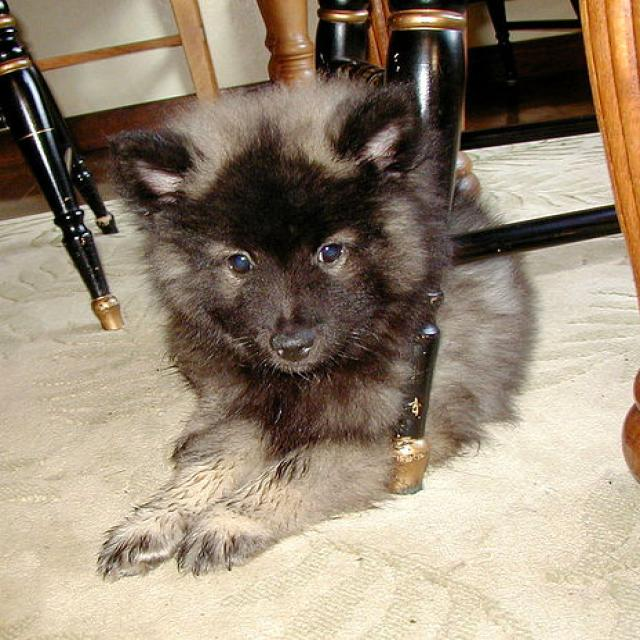dog-keeshond: (92, 63, 541, 586)
